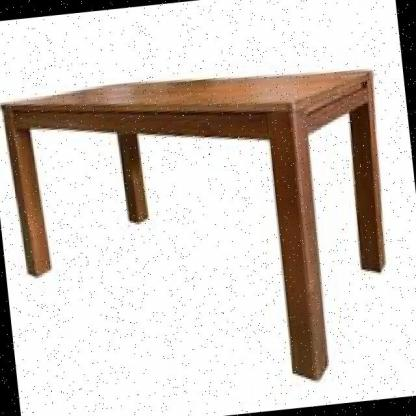Table: (0, 37, 409, 416)
